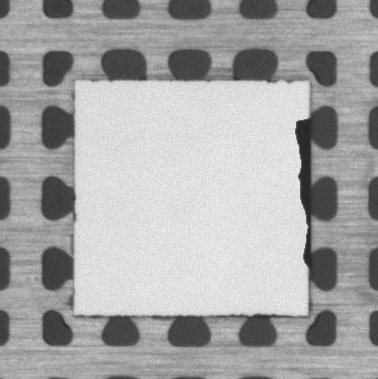DIE_BROKEN: (292, 114, 313, 274)
